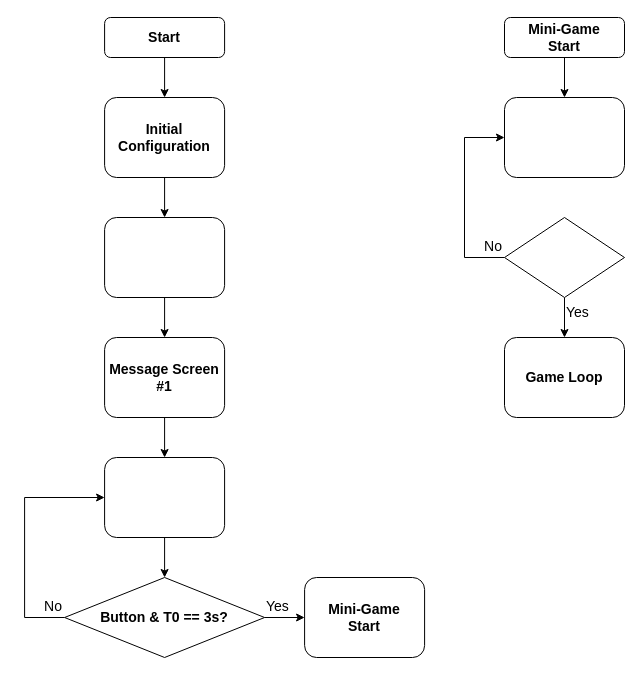
This 642x675 diagram has some shape labels left out. Here are the shapes that lost their labels. From the top down, the centre of each, then its label:
(x=564, y=137): Instructions Screen
(x=164, y=257): Startup Screen
(x=564, y=257): Button?
(x=164, y=497): Message Screen #2
